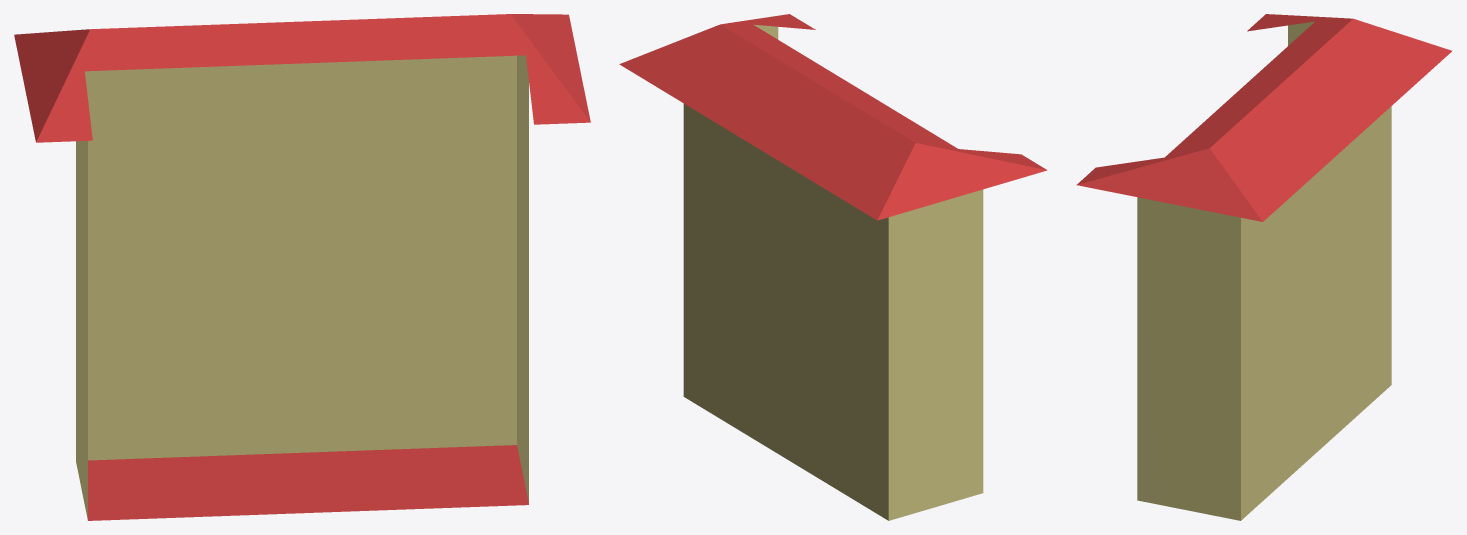
The picture shows the model from 3 angles, left to right: view 1: azimuth 30°, elevation 25°; view 2: azimuth 150°, elevation 25°; view 3: azimuth 270°, elevation 25°; orthographic projection. The views are drawn at different scales.
Size of the model in its own units: 10.74 by 8.21 by 8.73.
